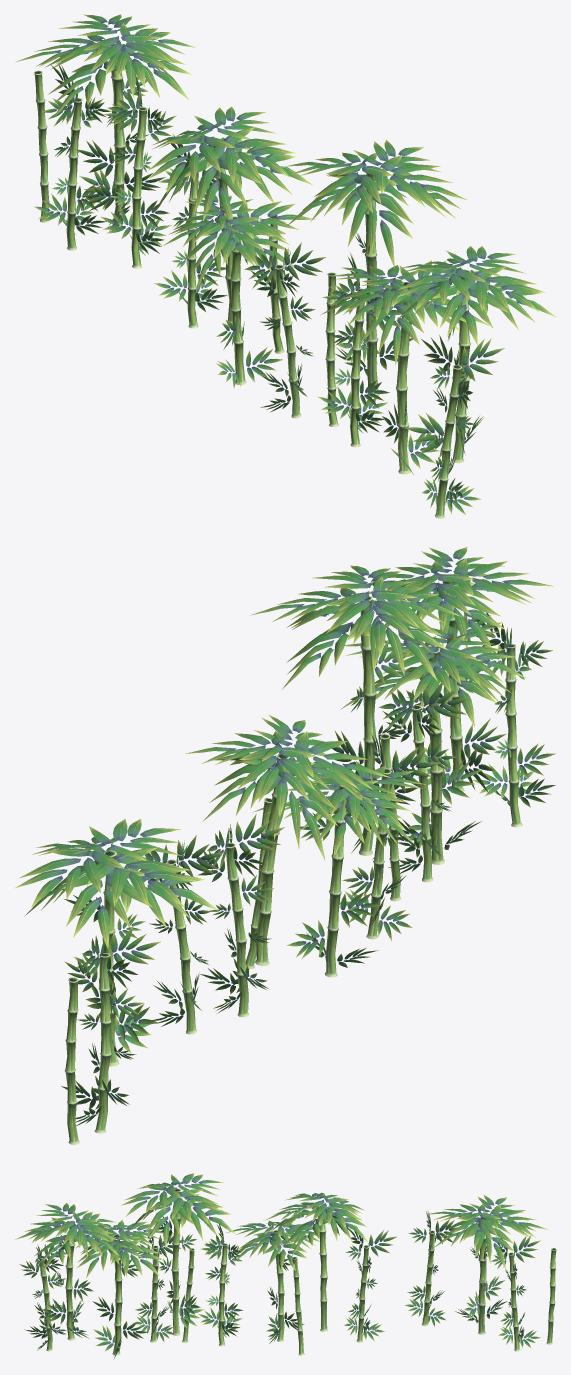
Rendered from bixieBambooShoots.fbx.
3 renders of one model, top to bottom at view 1: azimuth 30°, elevation 25°; view 2: azimuth 150°, elevation 25°; view 3: azimuth 270°, elevation 25°, orthographic. The views are drawn at different scales.
Parts seen in each view (by area): view 1: Plane.322, Plane.326, Plane.324, Plane.323, Plane.345, Plane.321, Plane.331, Plane.350, Plane.337, Plane.351, Plane.333, Plane.335 (+3 smaller); view 2: Plane.322, Plane.326, Plane.323, Plane.321, Plane.324, Plane.345, Plane.337, Plane.335, Plane.350, Plane.333, Plane.351, Plane.331 (+3 smaller); view 3: Plane.322, Plane.326, Plane.324, Plane.321, Plane.323, Plane.345, Plane.351, Plane.335, Plane.337, Plane.331, Plane.350, Plane.333 (+3 smaller).
Boxes of the visible parts, x1,y1,x2,y2 form: Plane.322: (286, 139, 466, 396); Plane.326: (16, 14, 195, 231); Plane.324: (395, 246, 555, 463); Plane.323: (147, 106, 312, 323); Plane.345: (163, 195, 315, 388); Plane.321: (321, 260, 488, 474); Plane.331: (100, 71, 176, 268); Plane.350: (421, 335, 504, 518); Plane.337: (34, 63, 111, 250); Plane.351: (244, 242, 325, 418); Plane.333: (318, 252, 389, 447); Plane.335: (154, 134, 227, 328); Plane.322: (251, 565, 461, 855); Plane.326: (15, 819, 218, 1066); Plane.323: (185, 715, 391, 966); Plane.321: (340, 620, 526, 864); Plane.324: (349, 547, 553, 792); Plane.345: (253, 761, 425, 977); Plane.337: (61, 925, 160, 1133); Plane.335: (191, 813, 284, 1017); Plane.350: (472, 611, 555, 827); Plane.333: (378, 680, 470, 882); Plane.351: (339, 731, 441, 940); Plane.331: (139, 835, 223, 1034); Plane.322: (121, 1173, 234, 1335); Plane.326: (426, 1195, 547, 1334); Plane.324: (15, 1202, 118, 1340); Plane.321: (60, 1219, 164, 1359); Plane.323: (264, 1192, 368, 1331); Plane.345: (226, 1220, 326, 1343); Plane.351: (198, 1224, 244, 1346); Plane.335: (343, 1226, 396, 1342); Plane.337: (491, 1235, 540, 1351); Plane.331: (404, 1211, 456, 1326); Plane.350: (19, 1241, 66, 1351); Plane.333: (132, 1228, 184, 1342).
Size of the model in its own units: 193 by 251 by 703.
1 material, 1 textured.
